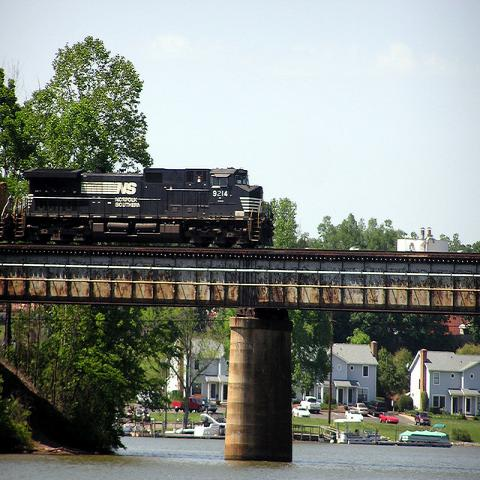car: (299, 396, 321, 413), (367, 400, 387, 417), (344, 409, 364, 421), (379, 412, 399, 424), (414, 412, 431, 426), (202, 399, 217, 414), (351, 403, 368, 416), (292, 406, 310, 418), (136, 394, 142, 404)
truck: (173, 397, 203, 413)
